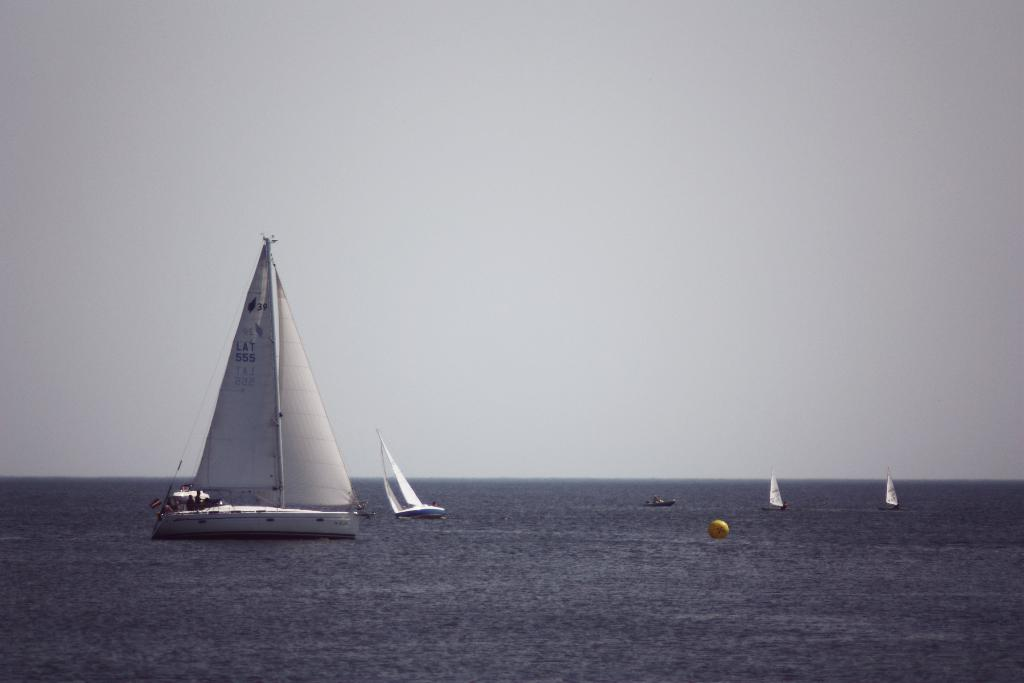boat: (124, 218, 369, 547), (357, 409, 484, 526), (865, 457, 927, 526), (755, 463, 806, 523), (635, 478, 696, 515)
